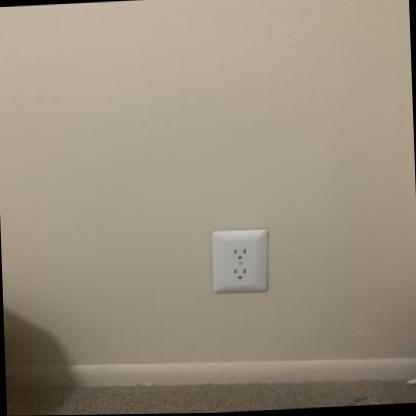OUTLET: (210, 227, 271, 295)
